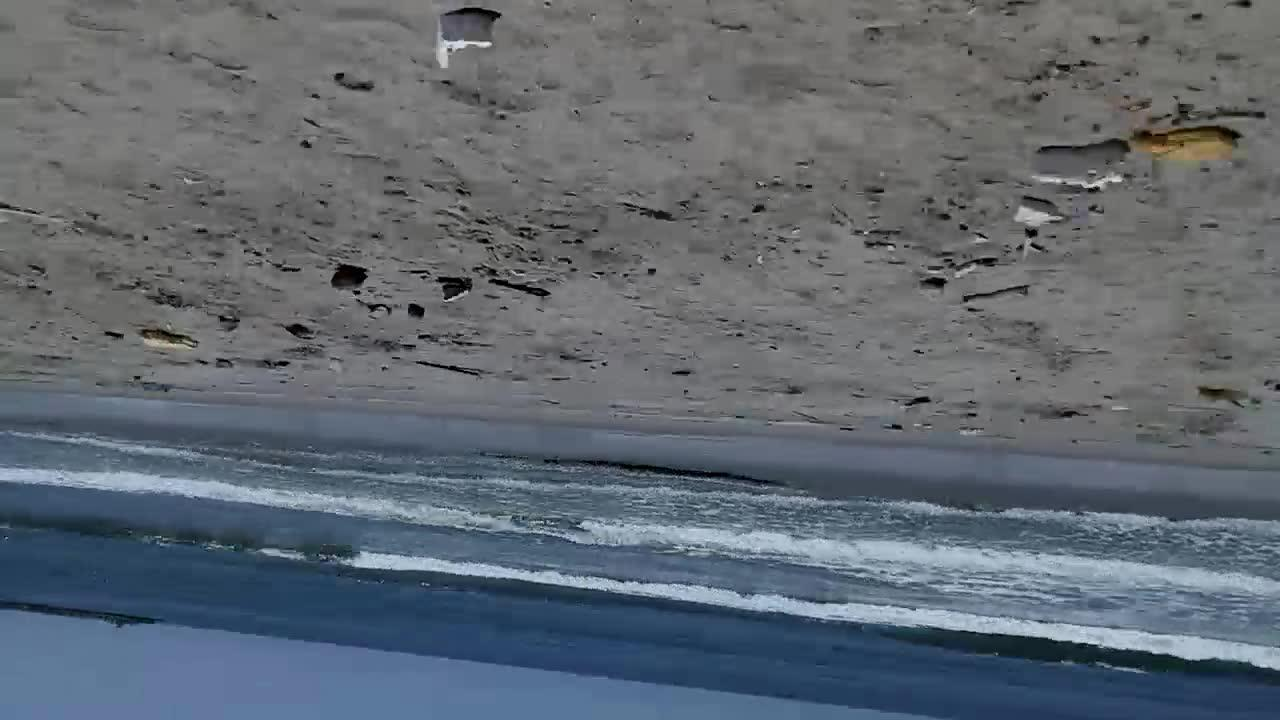obj: (1026, 142, 1130, 184), (1123, 128, 1243, 164), (437, 10, 500, 70), (138, 331, 201, 353), (1009, 197, 1060, 223), (433, 276, 472, 304), (327, 264, 368, 290)
sand/background: (1, 385, 1279, 719)
